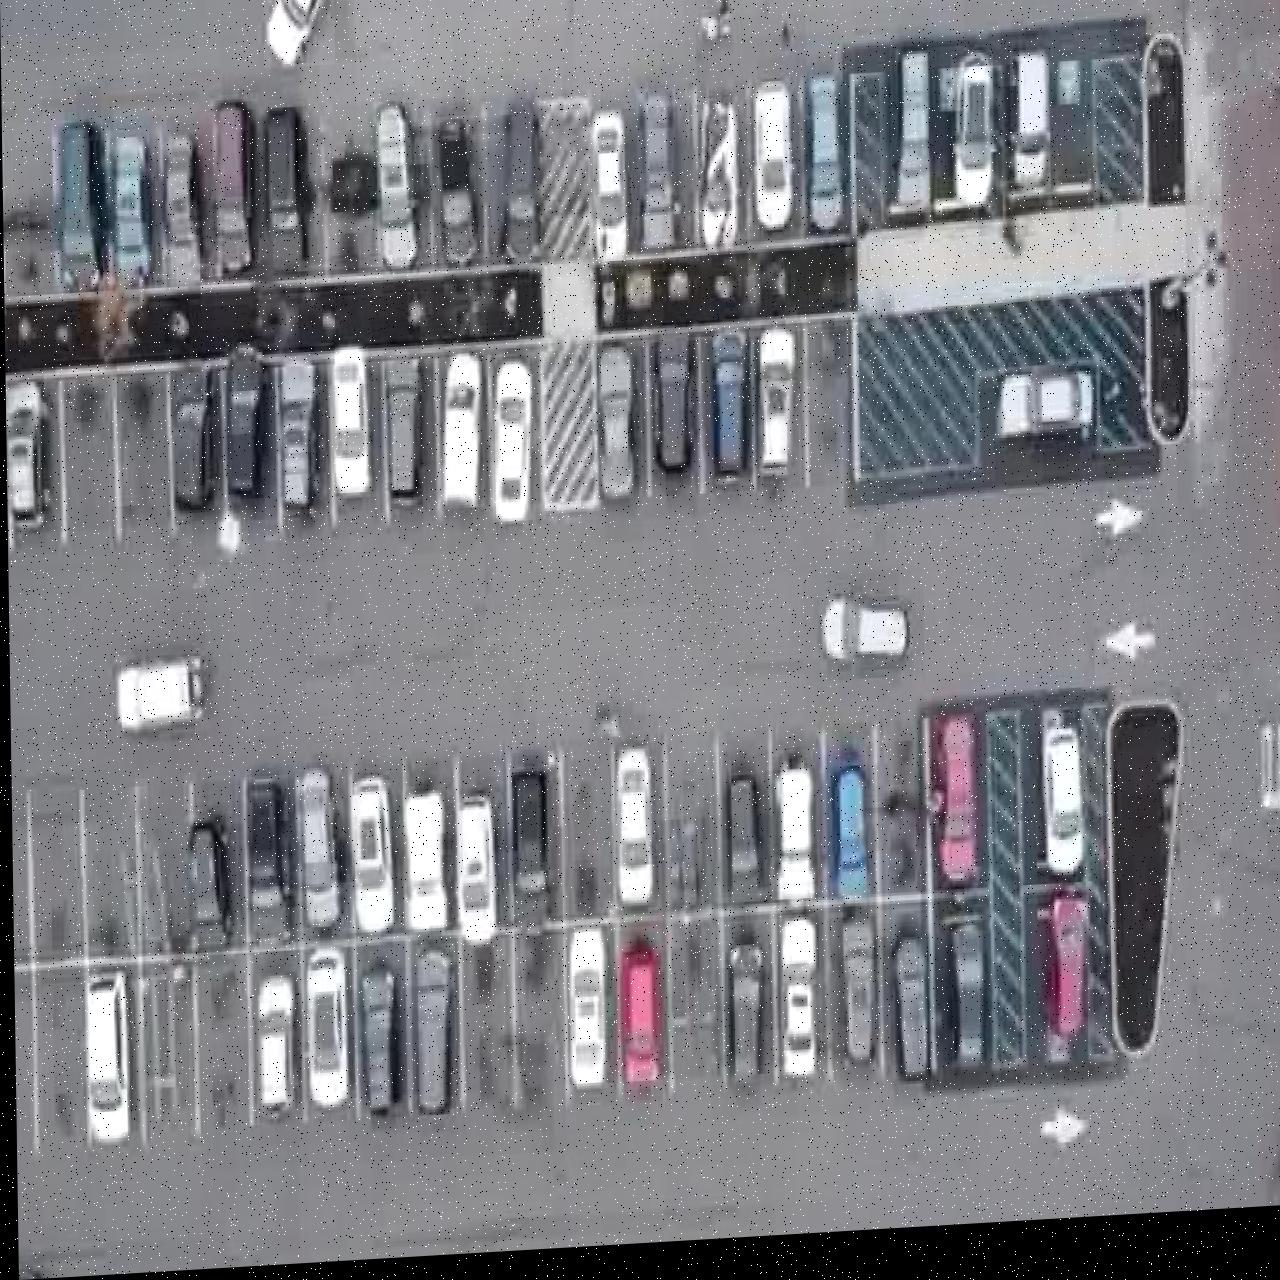car: (50, 120, 103, 292), (209, 100, 254, 279), (930, 724, 975, 899), (113, 653, 206, 737), (998, 375, 1096, 454), (81, 972, 125, 1144), (241, 778, 287, 945), (260, 108, 306, 274), (374, 104, 418, 274), (292, 771, 338, 935), (409, 948, 452, 1118), (1142, 45, 1184, 217), (818, 601, 908, 680), (437, 356, 482, 515), (347, 779, 392, 938), (888, 60, 931, 226), (301, 952, 345, 1112), (498, 104, 540, 268), (951, 62, 994, 220), (107, 130, 150, 287), (750, 88, 795, 240), (451, 796, 495, 952), (490, 365, 531, 529), (182, 813, 230, 953), (696, 105, 740, 259), (158, 134, 202, 287), (170, 368, 216, 513), (635, 95, 676, 257), (803, 80, 844, 240), (5, 376, 47, 532), (617, 942, 659, 1098), (326, 152, 377, 279), (565, 934, 605, 1097), (275, 361, 316, 519), (613, 754, 653, 914), (595, 349, 635, 508), (648, 338, 692, 483), (771, 758, 812, 912), (776, 924, 815, 1085), (401, 790, 444, 934), (223, 345, 263, 501), (1040, 734, 1080, 888), (382, 361, 423, 511), (755, 335, 796, 484), (329, 350, 369, 503), (252, 975, 293, 1123), (708, 338, 748, 485), (437, 121, 476, 272), (1009, 62, 1050, 204), (590, 117, 627, 270), (1044, 906, 1084, 1048), (356, 966, 393, 1121), (888, 935, 925, 1090), (722, 948, 761, 1092), (837, 921, 873, 1074), (263, 0, 335, 72), (829, 774, 865, 912), (948, 932, 981, 1080), (722, 781, 758, 910), (510, 777, 545, 900), (567, 785, 598, 919), (1010, 141, 1050, 202)
